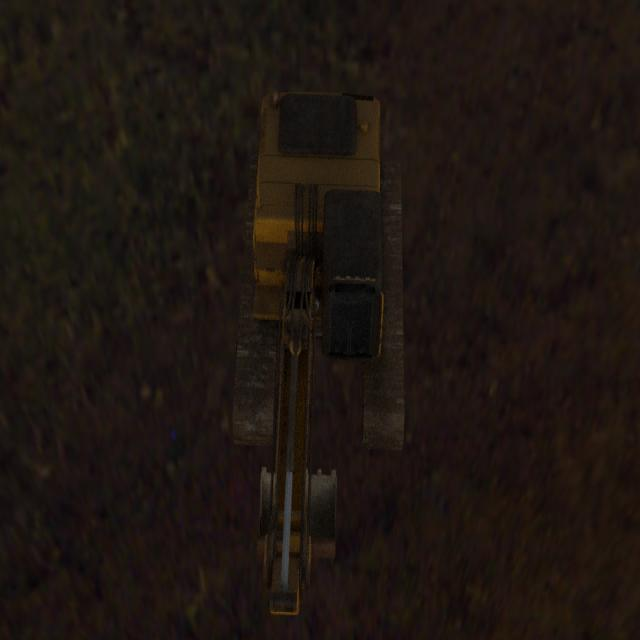excavator: (231, 88, 404, 615)
